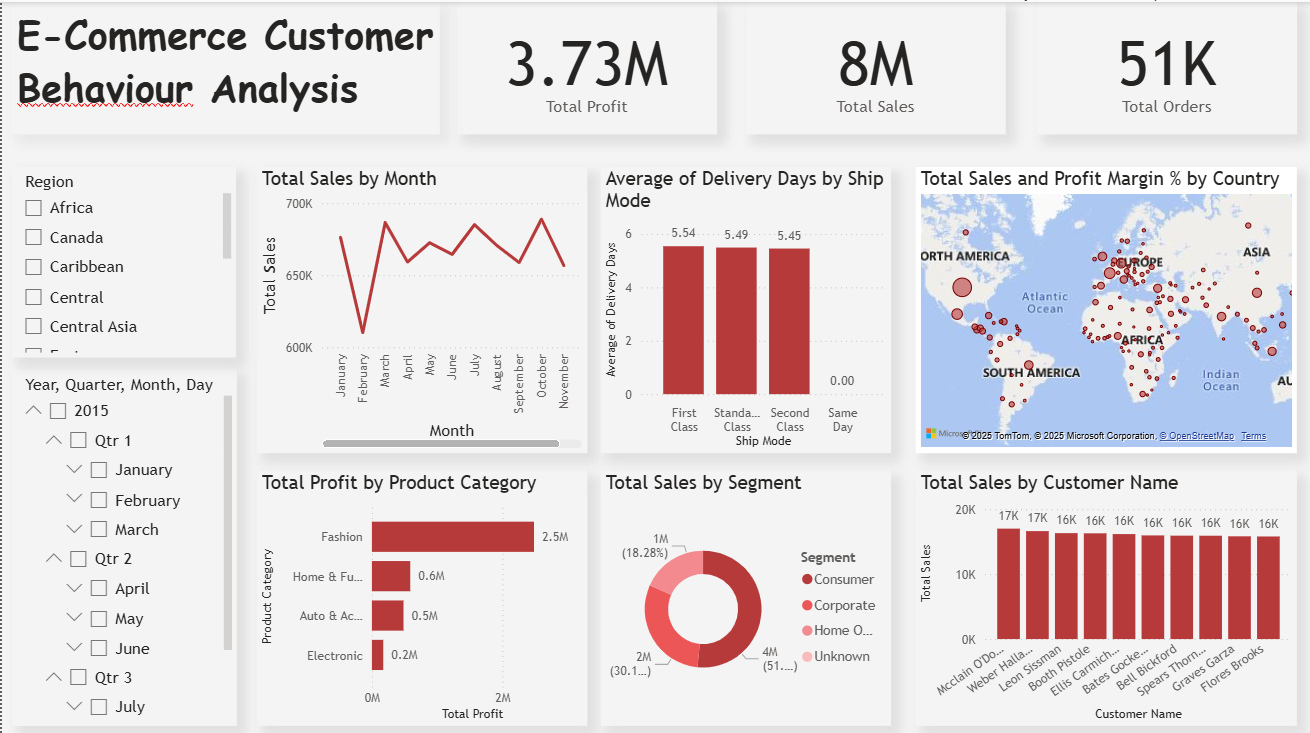

The page's visual inventory and layout, read from the dashboard file:
{"tool":"powerbi","page":{"name":"Page 1","canvas":[1280,720],"ordinal":0},"visuals":[{"type":"card","fields":{"Values":["Cleaned_Ecommerce_Data.Total Sales"]},"box":[727.6,0,254.3,129.6],"z":0},{"type":"card","fields":{"Values":["Cleaned_Ecommerce_Data.Total Profit"]},"box":[445.1,0,254.3,129.6],"z":1000},{"type":"card","fields":{"Values":["Cleaned_Ecommerce_Data.Total Orders"]},"box":[1012.5,0,254.3,129.6],"z":2000},{"type":"lineChart","fields":{"Category":["Cleaned_Ecommerce_Data.Order Date.Variation.Date Hierarchy.Month","Cleaned_Ecommerce_Data.Order Date.Variation.Date Hierarchy.Day"],"Y":["Cleaned_Ecommerce_Data.Total Sales"]},"box":[249.5,161.4,322.8,280],"z":3000},{"type":"clusteredBarChart","fields":{"Category":["Cleaned_Ecommerce_Data.Product Category"],"Y":["Cleaned_Ecommerce_Data.Total Profit"]},"box":[249.5,458.6,322.8,249.5],"z":4000},{"type":"clusteredColumnChart","fields":{"Category":["Cleaned_Ecommerce_Data.Ship Mode"],"Y":["Cleaned_Ecommerce_Data.Delivery Days"]},"box":[585.7,161.4,283.7,280],"z":5000},{"type":"donutChart","fields":{"Category":["Cleaned_Ecommerce_Data.Segment"],"Y":["Cleaned_Ecommerce_Data.Total Sales"]},"box":[585.7,458.6,283.7,249.5],"z":6000},{"type":"map","fields":{"Category":["Cleaned_Ecommerce_Data.Country"],"Size":["Cleaned_Ecommerce_Data.Total Sales"]},"box":[893.9,161.4,373,280],"z":6001},{"type":"clusteredColumnChart","fields":{"Category":["Cleaned_Ecommerce_Data.Customer Name"],"Y":["Cleaned_Ecommerce_Data.Total Sales"]},"box":[893.9,458.6,373,249.5],"z":6002},{"type":"slicer","fields":{"Values":["Cleaned_Ecommerce_Data.Order Date.Variation.Date Hierarchy.Year","Cleaned_Ecommerce_Data.Order Date.Variation.Date Hierarchy.Quarter","Cleaned_Ecommerce_Data.Order Date.Variation.Date Hierarchy.Month","Cleaned_Ecommerce_Data.Order Date.Variation.Date Hierarchy.Day"]},"box":[9.8,359.5,220.1,348.5],"z":6004},{"type":"slicer","fields":{"Values":["Cleaned_Ecommerce_Data.Region"]},"box":[9.6,161.9,219.6,186.6],"z":6005},{"type":"textbox","box":[9.8,0,418.2,129.6],"z":6006}]}

Visuals, with their boxes in screenshot pixels (x1, y1, x2, y2), scaled from the page's 1280x720 canvas onto the 1310x733 screenshot:
card - Cleaned_Ecommerce_Data.Total Sales: [left=745, top=0, right=1005, bottom=132]
card - Cleaned_Ecommerce_Data.Total Profit: [left=456, top=0, right=716, bottom=132]
card - Cleaned_Ecommerce_Data.Total Orders: [left=1036, top=0, right=1296, bottom=132]
lineChart - Cleaned_Ecommerce_Data.Order Date.Variation.Date Hierarchy.Month x Cleaned_Ecommerce_Data.Order Date.Variation.Date Hierarchy.Day: [left=255, top=164, right=586, bottom=449]
clusteredBarChart - Cleaned_Ecommerce_Data.Product Category x Cleaned_Ecommerce_Data.Total Profit: [left=255, top=467, right=586, bottom=721]
clusteredColumnChart - Cleaned_Ecommerce_Data.Ship Mode x Cleaned_Ecommerce_Data.Delivery Days: [left=599, top=164, right=890, bottom=449]
donutChart - Cleaned_Ecommerce_Data.Segment x Cleaned_Ecommerce_Data.Total Sales: [left=599, top=467, right=890, bottom=721]
map - Cleaned_Ecommerce_Data.Country x Cleaned_Ecommerce_Data.Total Sales: [left=915, top=164, right=1297, bottom=449]
clusteredColumnChart - Cleaned_Ecommerce_Data.Customer Name x Cleaned_Ecommerce_Data.Total Sales: [left=915, top=467, right=1297, bottom=721]
slicer - Cleaned_Ecommerce_Data.Order Date.Variation.Date Hierarchy.Year x Cleaned_Ecommerce_Data.Order Date.Variation.Date Hierarchy.Quarter: [left=10, top=366, right=235, bottom=721]
slicer - Cleaned_Ecommerce_Data.Region: [left=10, top=165, right=235, bottom=355]
textbox: [left=10, top=0, right=438, bottom=132]
